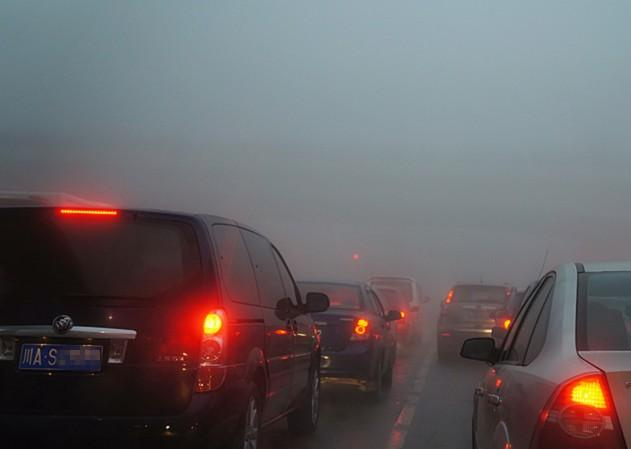car: (1, 191, 329, 442), (457, 258, 631, 449), (273, 275, 401, 396), (435, 278, 521, 362), (348, 283, 421, 353), (366, 274, 430, 340)
